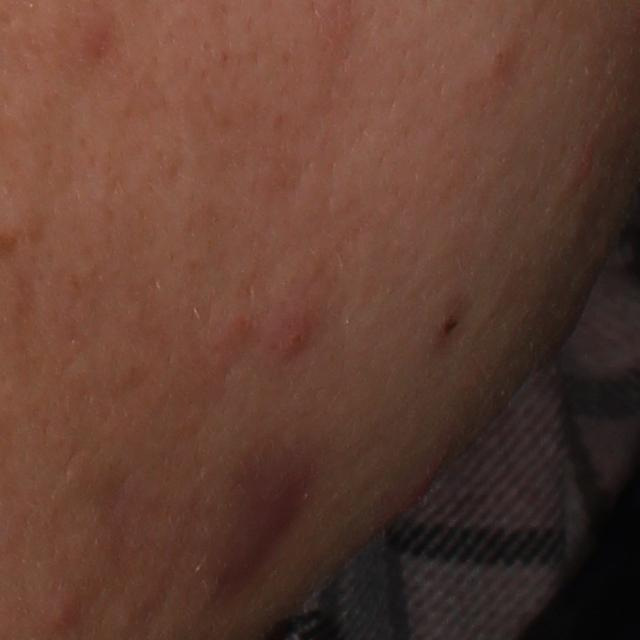nodule: (208, 454, 308, 594)
papule: (273, 310, 324, 359), (41, 596, 77, 631), (572, 146, 598, 182)
